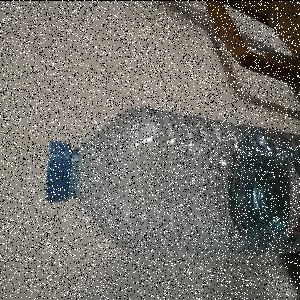Plastic-bottle: (45, 105, 300, 258)
